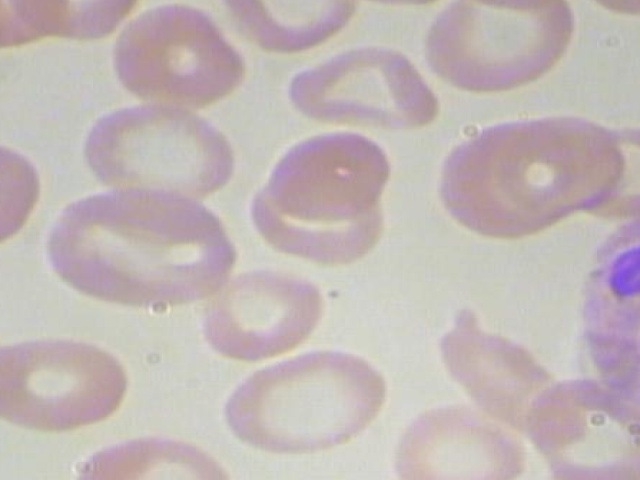RBC: (34, 183, 245, 316), (428, 304, 595, 448), (199, 342, 397, 451), (401, 0, 586, 98), (77, 101, 240, 207), (99, 0, 248, 112), (285, 37, 439, 140), (0, 326, 139, 438), (200, 263, 336, 367), (256, 123, 394, 222), (7, 0, 142, 48), (0, 137, 43, 258), (0, 0, 78, 53)
WBC: (578, 190, 640, 429)
